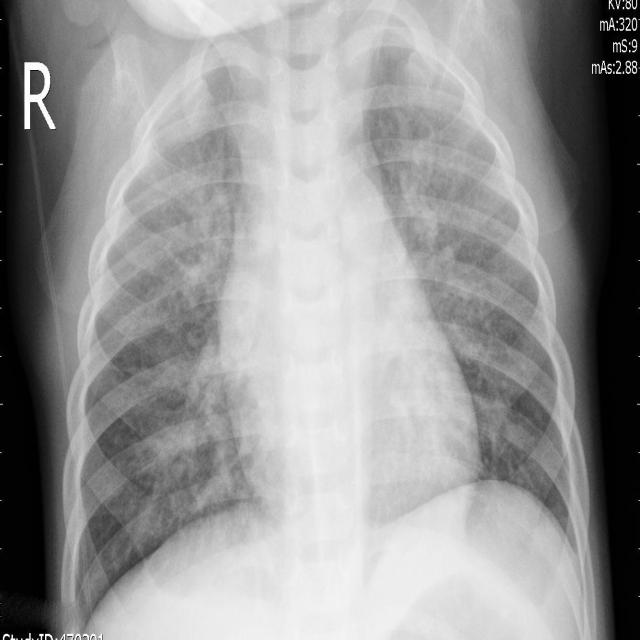low-pneumonia: (405, 169, 492, 365), (155, 159, 233, 319)
